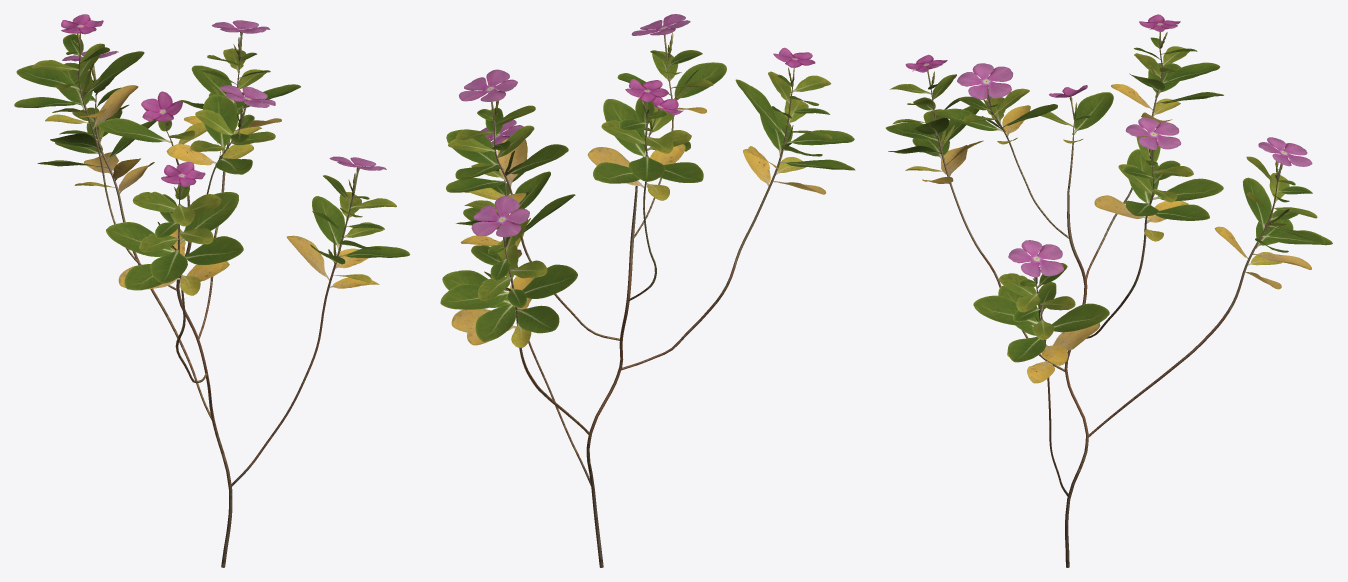
Rendered from perennial-bloom-lod0.glb.
3 views of the same model, side by side, from view 1: azimuth 30°, elevation 25°; view 2: azimuth 150°, elevation 25°; view 3: azimuth 270°, elevation 25° (orthographic). The views are drawn at different scales.
Parts seen in each view (by area): view 1: foliage; view 2: foliage; view 3: foliage.
Boxes of the visible parts, x1=… form: foliage: x1=14, y1=14, x2=410, y2=567; foliage: x1=440, y1=14, x2=855, y2=567; foliage: x1=885, y1=14, x2=1332, y2=567.
Size of the model in its own units: 0.2608 by 0.3972 by 0.3207.
1 material, 1 textured.
